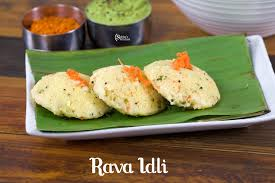chutney: (92, 1, 145, 20)
idli: (87, 61, 166, 115), (30, 68, 111, 119), (144, 59, 220, 112)
